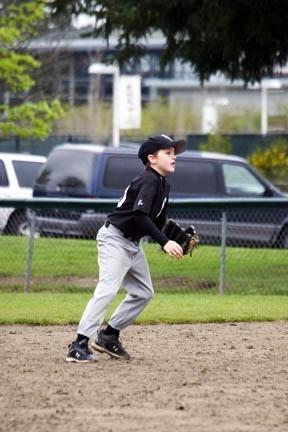car: (31, 144, 288, 250), (0, 154, 40, 240)
